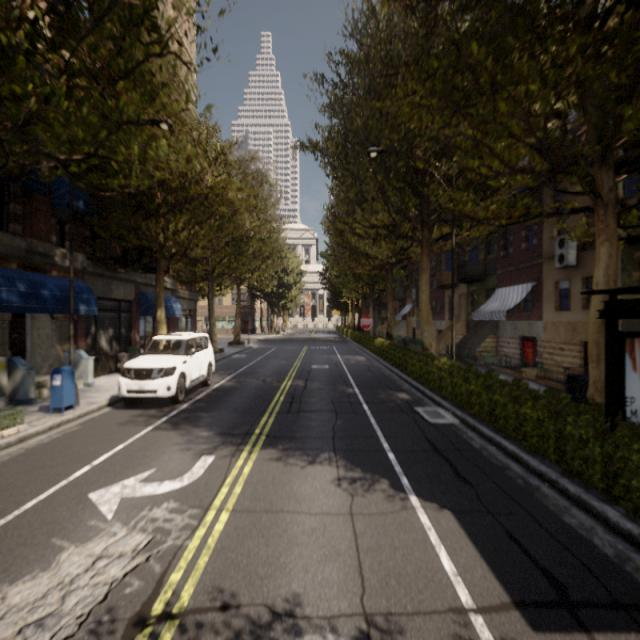stop sign: (358, 310, 373, 332)
